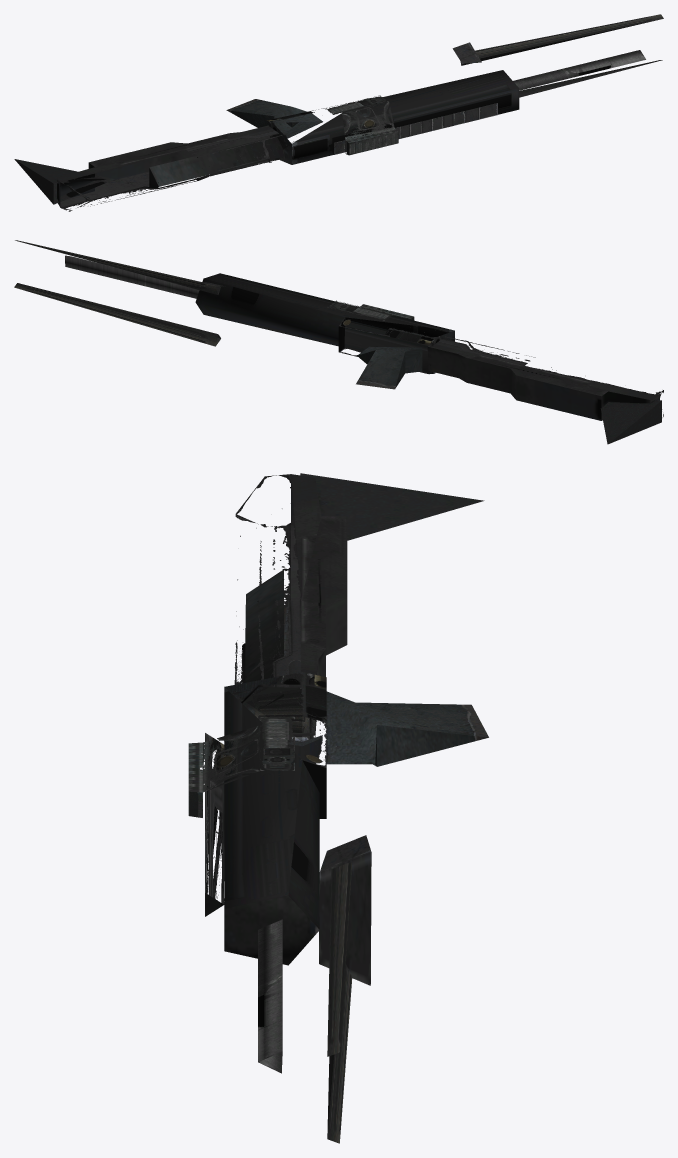
The model's file is t6_wpn_sniper_svu_world_LOD2.obj.
3 renders of one model, top to bottom at view 1: azimuth 30°, elevation 25°; view 2: azimuth 150°, elevation 25°; view 3: azimuth 270°, elevation 25°, orthographic. The views are drawn at different scales.
Visible parts, largest first — view 1: mtl_t6_wpn_sniper_svu, mtl_t6_wpn_sniper_svu_camo2, mtl_t6_wpn_sniper_svu_camo3; view 2: mtl_t6_wpn_sniper_svu, mtl_t6_wpn_sniper_svu_camo2; view 3: mtl_t6_wpn_sniper_svu, mtl_t6_wpn_sniper_svu_camo2.
Boxes of the visible parts, x1,y1,x2,y2 form: mtl_t6_wpn_sniper_svu: [57, 14, 663, 211]; mtl_t6_wpn_sniper_svu_camo2: [14, 99, 322, 211]; mtl_t6_wpn_sniper_svu_camo3: [334, 42, 497, 154]; mtl_t6_wpn_sniper_svu: [14, 240, 663, 420]; mtl_t6_wpn_sniper_svu_camo2: [356, 346, 663, 444]; mtl_t6_wpn_sniper_svu: [188, 474, 371, 1143]; mtl_t6_wpn_sniper_svu_camo2: [235, 473, 488, 766].
Bounding box in the file's own units: 99.84 × 10.28 × 21.05.
